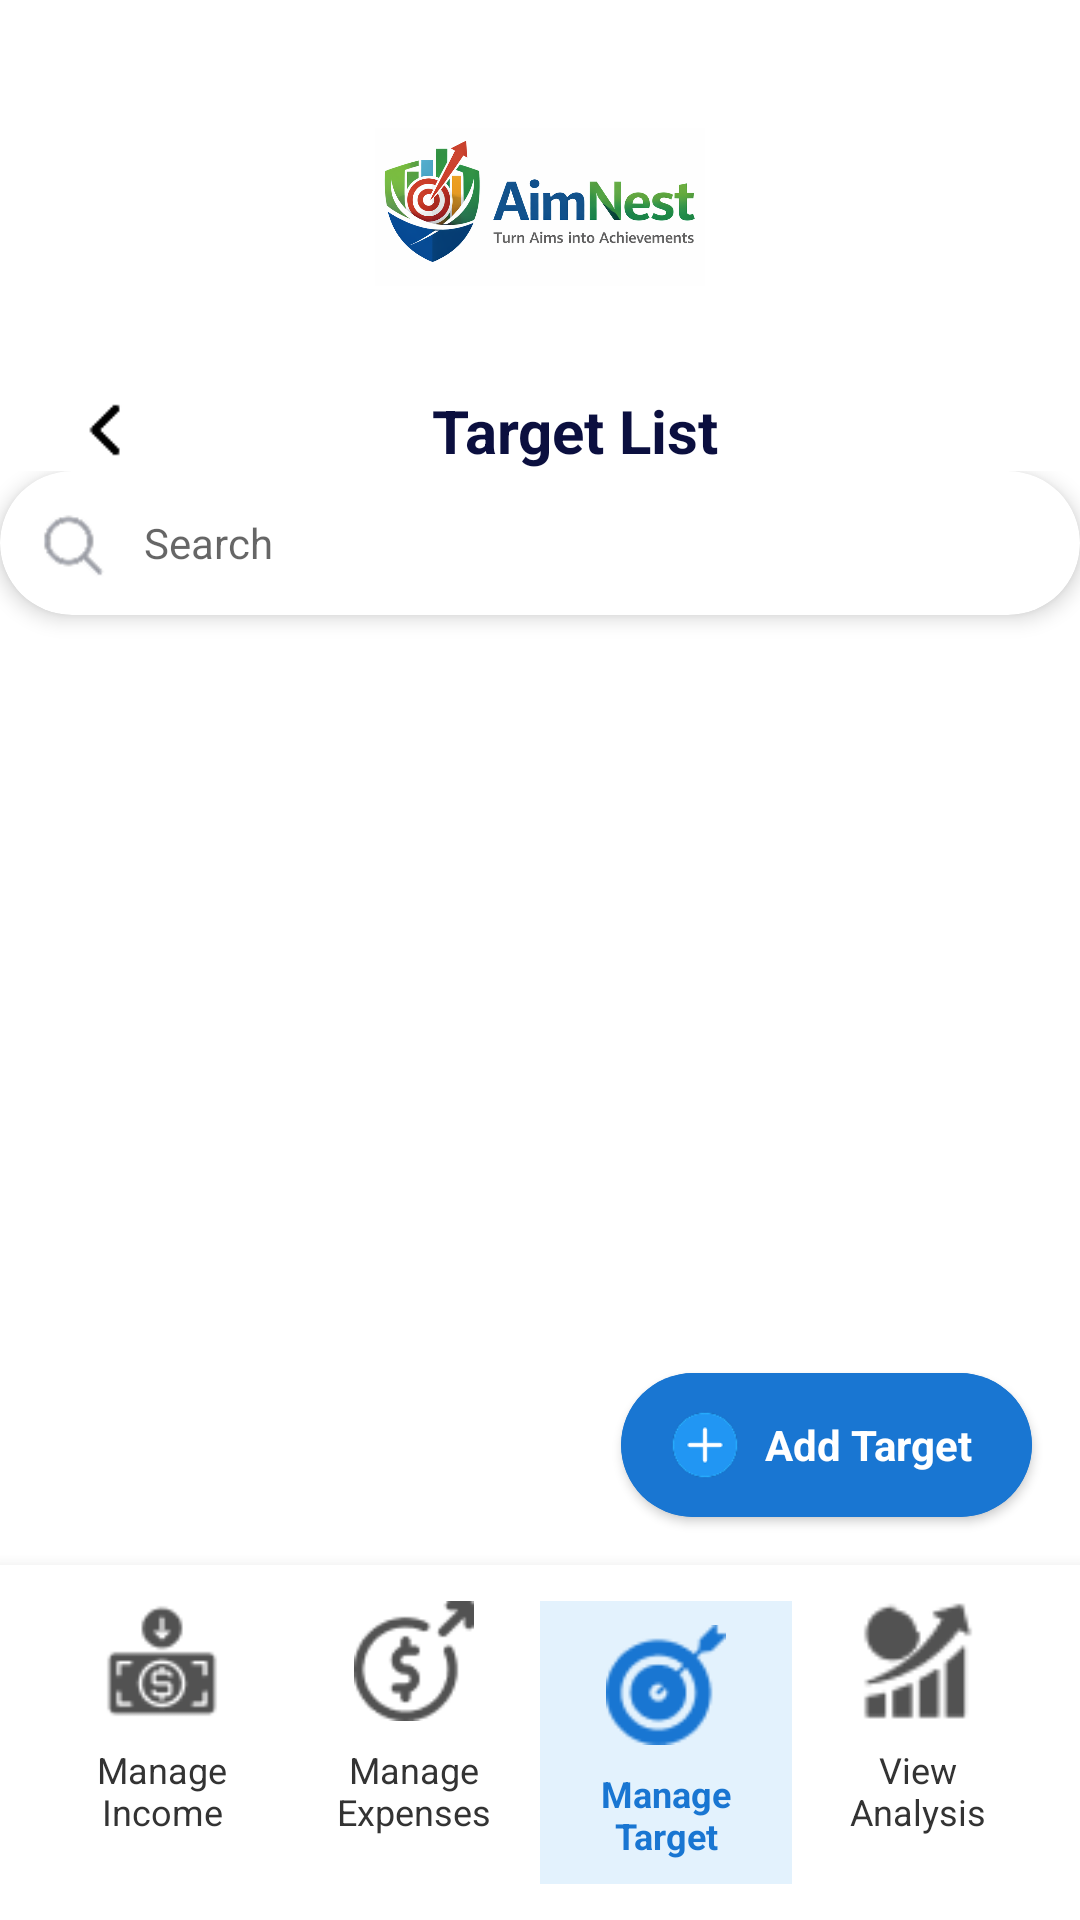

Screen size 1080*1920. Icon name, then its box in pixels as (x1, y1, x2, y2):
Back: (89, 404, 120, 456)
